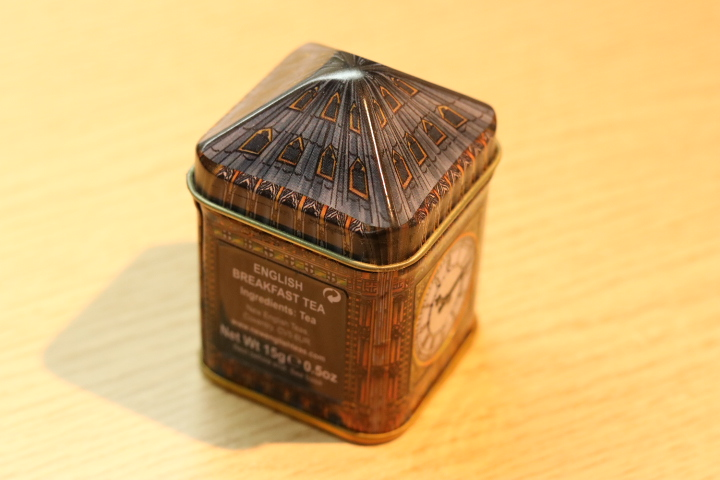Big Ben: (152, 22, 544, 457)
